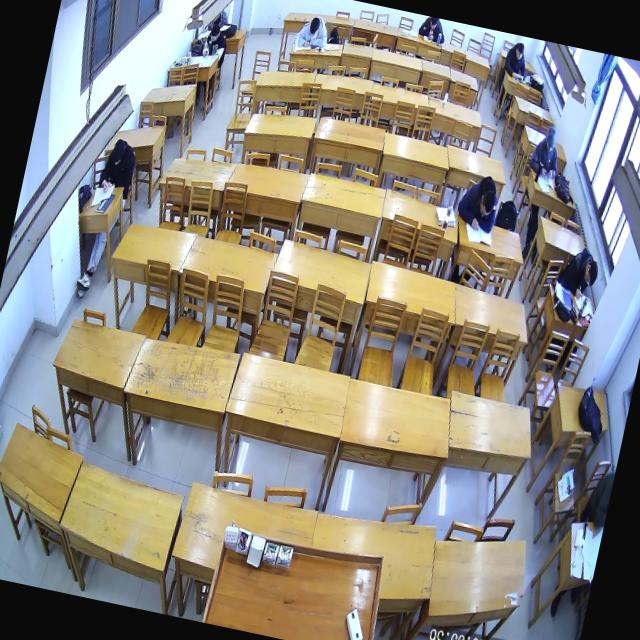bow: (452, 168, 504, 236), (291, 11, 331, 53), (414, 15, 448, 44)
down: (476, 188, 498, 222), (580, 257, 601, 290), (108, 136, 128, 169), (542, 124, 560, 154), (306, 14, 322, 38), (207, 22, 222, 45), (512, 42, 526, 62), (427, 17, 438, 31)
sit: (554, 241, 604, 305), (96, 135, 140, 198), (526, 121, 566, 182), (500, 39, 533, 84), (199, 20, 230, 63)
